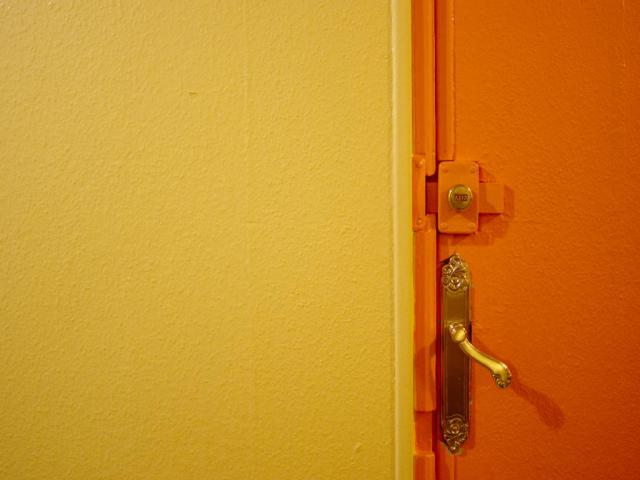Door-handle: (440, 249, 512, 453)
